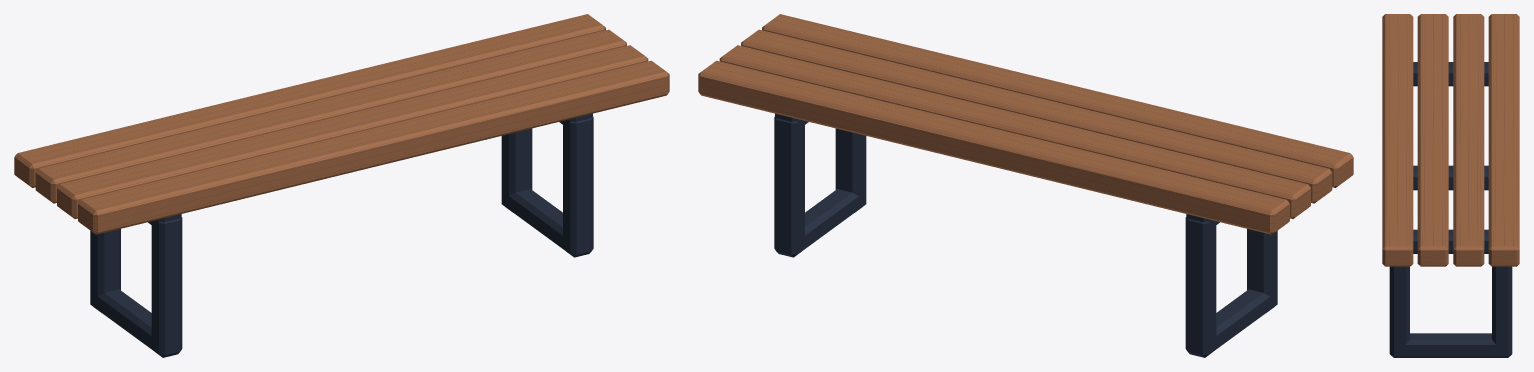
Rendered from slatted-bench.glb.
3 views of the same model, side by side, from view 1: azimuth 30°, elevation 25°; view 2: azimuth 150°, elevation 25°; view 3: azimuth 270°, elevation 25° (orthographic). The views are drawn at different scales.
Visible parts, largest first — view 1: Seat_slat, Seat_slat.002, Seat_slat.003, Seat_slat.001, Foot, Foot.002, Foot.003, Crossbar, Foot.001, Crossbar.002; view 2: Seat_slat.003, Seat_slat.001, Seat_slat, Seat_slat.002, Foot.001, Foot.003, Foot.002, Crossbar.002, Foot, Crossbar; view 3: Seat_slat, Seat_slat.001, Seat_slat.002, Seat_slat.003, Crossbar.002, Foot.002, Foot.003, Crossbar, Crossbar.001, Crossbar.003.
Boxes of the visible parts, x1,y1,x2,y2 form: Seat_slat: (78,60,669,234); Seat_slat.002: (35,29,626,203); Seat_slat.003: (14,14,605,187); Seat_slat.001: (57,45,648,218); Foot: (151,217,182,357); Foot.002: (563,116,593,257); Foot.003: (501,128,532,212); Crossbar: (91,289,158,353); Foot.001: (90,229,120,311); Crossbar.002: (502,189,569,253); Seat_slat.003: (698,60,1289,234); Seat_slat.001: (741,29,1332,203); Seat_slat: (762,14,1353,187); Seat_slat.002: (719,45,1310,218); Foot.001: (1185,217,1216,357); Foot.003: (774,116,804,257); Foot.002: (835,128,866,212); Crossbar.002: (798,189,865,253); Foot: (1247,229,1277,311); Crossbar: (1209,289,1276,353); Seat_slat: (1382,14,1413,266); Seat_slat.001: (1417,14,1448,266); Seat_slat.002: (1453,14,1484,266); Seat_slat.003: (1488,14,1519,266); Crossbar.002: (1395,333,1506,357); Foot.002: (1389,266,1409,357); Foot.003: (1492,266,1512,357); Crossbar: (1413,165,1488,190); Crossbar.001: (1413,62,1488,86); Crossbar.003: (1413,229,1488,253).
Bounding box in the file's own units: 1.85 × 0.517 × 0.457.
1 material, 1 textured.
